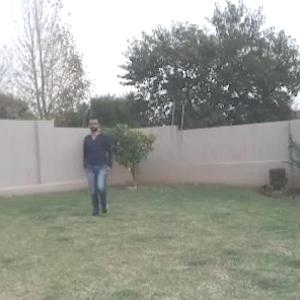follow: (81, 117, 115, 221)
